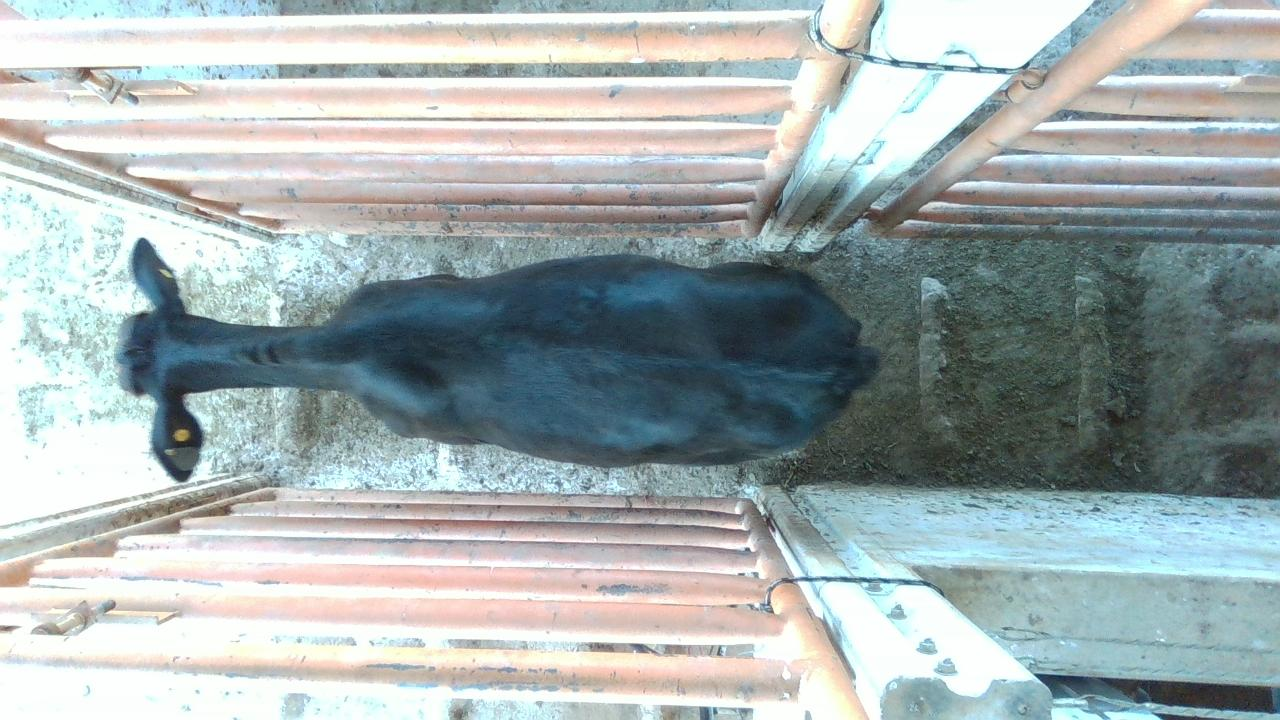cattle: (113, 236, 882, 481)
